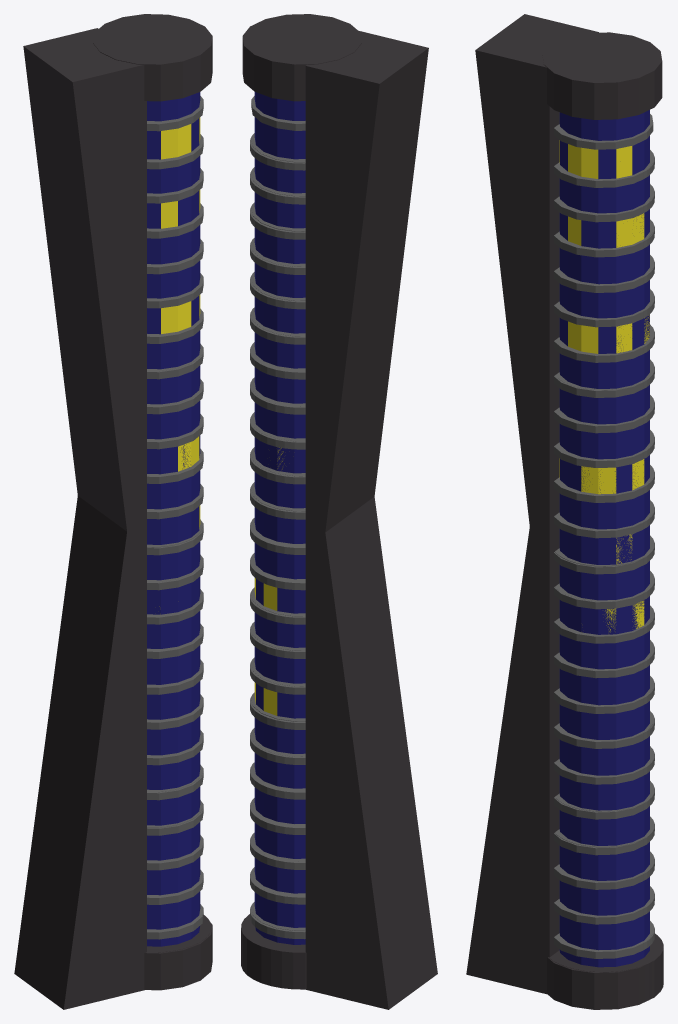
Rendered from Building1_Winodws.fbx.
3 renders of one model, left to right at view 1: azimuth 30°, elevation 25°; view 2: azimuth 150°, elevation 25°; view 3: azimuth 330°, elevation 25°, orthographic.
Visible parts, largest first — view 1: Cube, Cylinder.052, Cylinder.029, Cylinder.028, Cylinder.057, Cylinder.056, Cylinder.031, Cylinder.030, Cylinder.033, Cylinder.042, Cylinder.045, Cylinder.051 (+21 smaller); view 2: Cube, Cylinder.052, Cylinder.029, Cylinder.002, Cylinder.022, Cylinder.010, Cylinder.016, Cylinder.015, Cylinder.023, Cylinder.001, Cylinder.009, Cylinder.011 (+16 smaller); view 3: Cube, Cylinder.052, Cylinder.029, Cylinder.028, Cylinder.002, Cylinder.057, Cylinder.056, Cylinder.055, Cylinder.058, Cylinder.001, Cylinder.042, Cylinder.031 (+21 smaller).
Boxes of the visible parts, x1=… form: Cube: x1=14, y1=28, x2=146, y2=1009; Cylinder.052: x1=147, y1=92, x2=200, y2=946; Cylinder.029: x1=93, y1=14, x2=212, y2=101; Cylinder.028: x1=144, y1=922, x2=212, y2=990; Cylinder.057: x1=161, y1=117, x2=200, y2=159; Cylinder.056: x1=161, y1=295, x2=200, y2=333; Cylinder.031: x1=147, y1=203, x2=203, y2=238; Cylinder.030: x1=147, y1=168, x2=203, y2=203; Cylinder.033: x1=147, y1=273, x2=203, y2=308; Cylinder.042: x1=147, y1=589, x2=203, y2=624; Cylinder.045: x1=147, y1=694, x2=203, y2=729; Cylinder.051: x1=147, y1=904, x2=203, y2=939; Cube: x1=305, y1=30, x2=437, y2=1009; Cylinder.052: x1=254, y1=92, x2=305, y2=944; Cylinder.029: x1=242, y1=14, x2=361, y2=101; Cylinder.002: x1=241, y1=914, x2=306, y2=989; Cylinder.022: x1=250, y1=762, x2=305, y2=799; Cylinder.010: x1=250, y1=342, x2=305, y2=379; Cylinder.016: x1=250, y1=553, x2=305, y2=590; Cylinder.015: x1=250, y1=518, x2=305, y2=554; Cylinder.023: x1=250, y1=798, x2=305, y2=834; Cylinder.001: x1=251, y1=96, x2=305, y2=130; Cylinder.009: x1=250, y1=307, x2=305, y2=344; Cylinder.011: x1=250, y1=377, x2=305, y2=414; Cube: x1=466, y1=14, x2=598, y2=994; Cylinder.052: x1=559, y1=110, x2=649, y2=967; Cylinder.029: x1=542, y1=32, x2=662, y2=119; Cylinder.028: x1=547, y1=957, x2=655, y2=1009; Cylinder.002: x1=549, y1=933, x2=663, y2=1001; Cylinder.057: x1=559, y1=140, x2=632, y2=178; Cylinder.056: x1=568, y1=314, x2=649, y2=353; Cylinder.055: x1=559, y1=458, x2=644, y2=494; Cylinder.058: x1=568, y1=213, x2=644, y2=247; Cylinder.001: x1=554, y1=114, x2=653, y2=149; Cylinder.042: x1=554, y1=608, x2=653, y2=643; Cylinder.031: x1=554, y1=221, x2=653, y2=257.
Bounding box in the file's own units: 1967 × 10562 × 1275.
